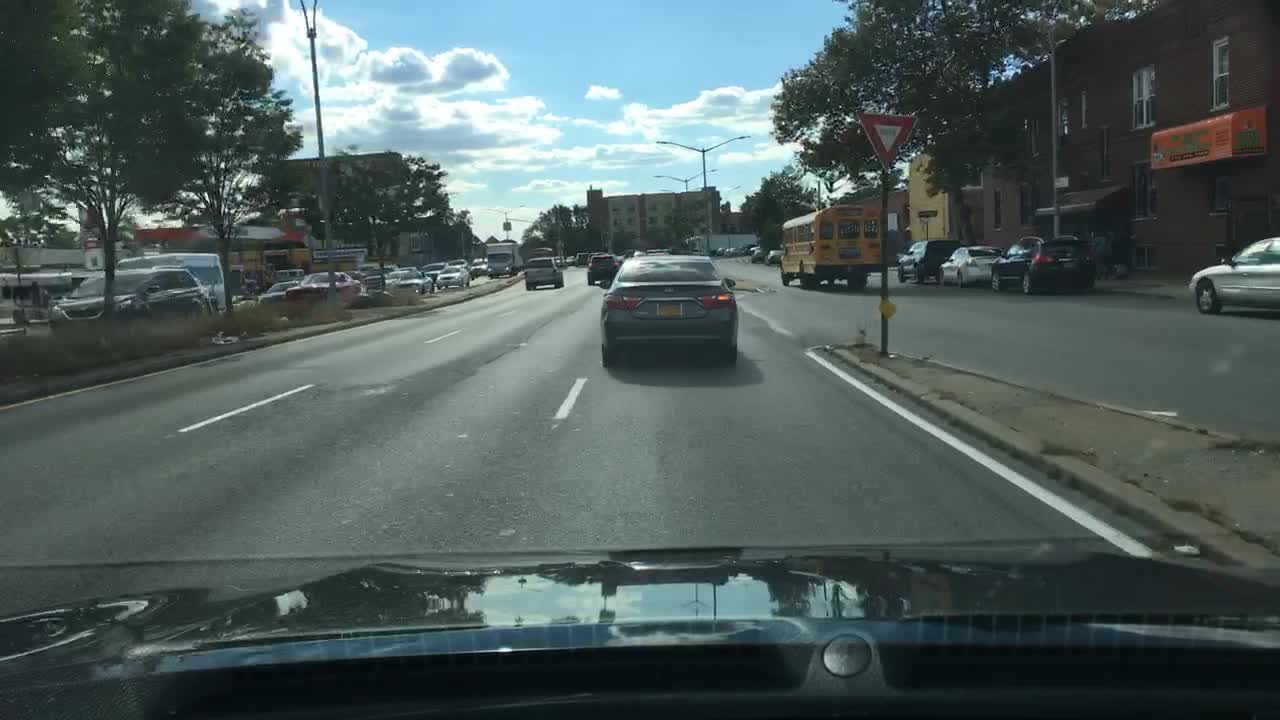bus: (780, 200, 884, 286), (0, 271, 73, 322)
car: (599, 252, 739, 367), (49, 267, 212, 315), (113, 250, 228, 310), (1188, 234, 1279, 307), (989, 232, 1090, 294), (893, 237, 964, 286), (937, 245, 1006, 286), (283, 271, 364, 297), (378, 267, 435, 296), (522, 254, 564, 289), (585, 250, 619, 284), (360, 262, 399, 286), (257, 278, 301, 299), (436, 262, 469, 289), (380, 268, 411, 289), (419, 259, 448, 280), (465, 255, 493, 273), (764, 247, 785, 268), (444, 259, 467, 271), (751, 245, 767, 262), (725, 245, 745, 257), (528, 246, 553, 255), (549, 252, 566, 265), (577, 250, 590, 265), (716, 244, 730, 257), (564, 252, 578, 263)
person: (1088, 221, 1114, 289)
traffic sign: (854, 110, 916, 165)
truck: (483, 241, 522, 279)
